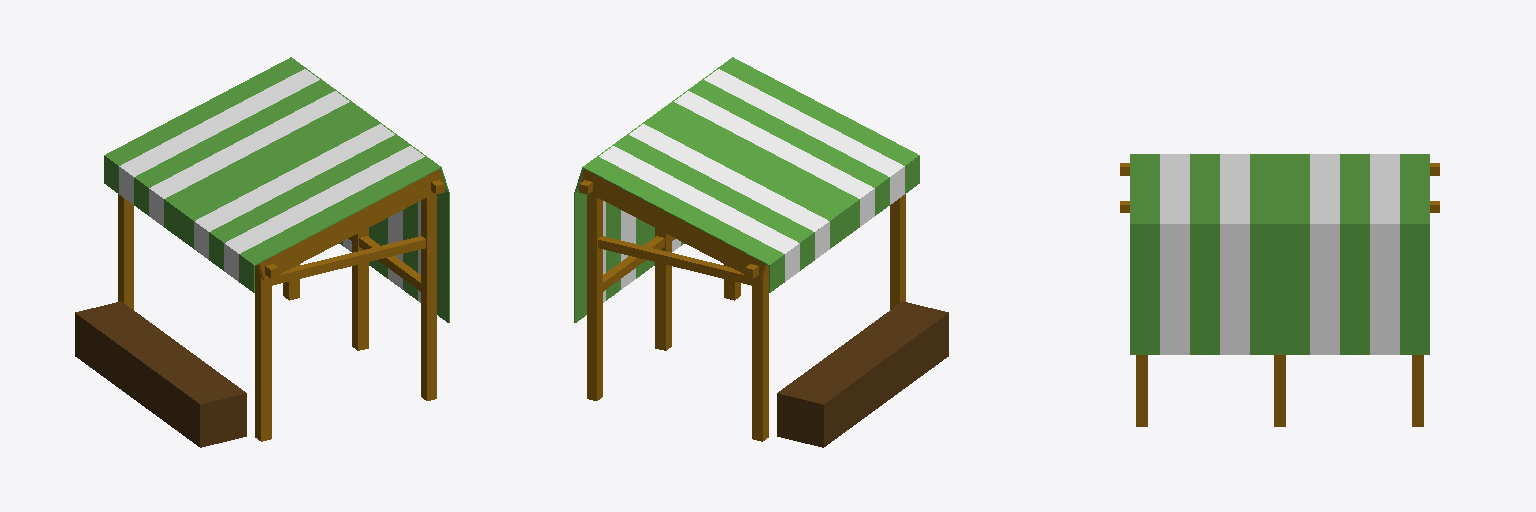
3 views of the same model, side by side, from view 1: azimuth 30°, elevation 25°; view 2: azimuth 150°, elevation 25°; view 3: azimuth 270°, elevation 25° (orthographic).
Parts seen in each view (by area): view 1: top, cube, back, front, side; view 2: top, cube, back, front, side; view 3: back, top.
Boxes of the visible parts, x1=… form: top: x1=104, y1=58, x2=443, y2=281; cube: x1=75, y1=301, x2=246, y2=447; back: x1=283, y1=57, x2=449, y2=400; front: x1=104, y1=156, x2=278, y2=441; side: x1=272, y1=236, x2=425, y2=285; top: x1=580, y1=58, x2=919, y2=281; cube: x1=777, y1=301, x2=948, y2=447; back: x1=574, y1=57, x2=740, y2=400; front: x1=745, y1=156, x2=919, y2=441; side: x1=598, y1=236, x2=751, y2=285; back: x1=1120, y1=193, x2=1439, y2=426; top: x1=1130, y1=154, x2=1429, y2=192.
Size of the model in its own units: 2.86 by 2.7 by 3.35.
3 materials, 3 textured.